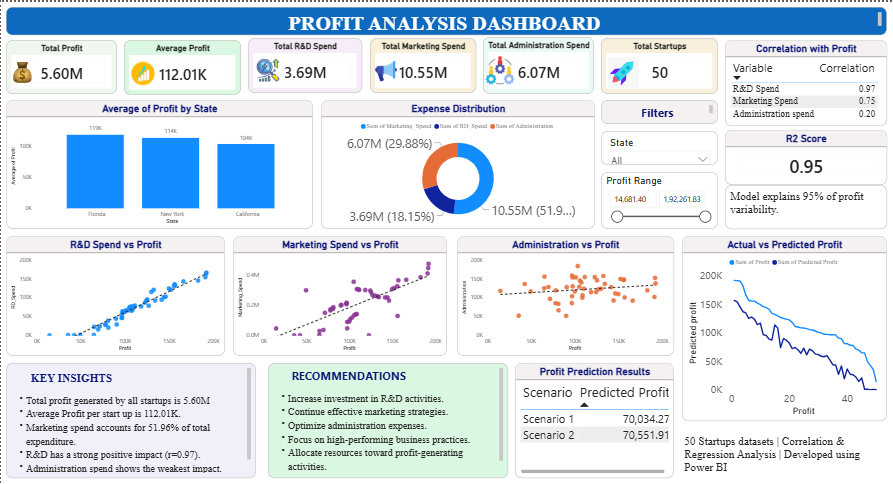

Layout of this report page (visuals, bound fields, positions):
{"tool":"powerbi","page":{"name":"Dashboard","canvas":[1900,1027],"ordinal":0},"visuals":[{"type":"donutChart","title":"Expense Distribution","fields":{"Y":["Sum(project_profit_analysis.Marketing_Spend)","Sum(project_profit_analysis.RD_Spend)","Sum(project_profit_analysis.Administration)"]},"box":[680.9,208.5,583,274.5],"z":0},{"type":"clusteredColumnChart","fields":{"Category":["project_profit_analysis.State"],"Y":["Avg(project_profit_analysis.Profit)"]},"box":[10.6,208.5,653.2,274.5],"z":1000},{"type":"scatterChart","title":" R&D Spend vs Profit","fields":{"Y":["project_profit_analysis.RD_Spend"],"X":["project_profit_analysis.Profit"]},"box":[10.6,497.9,466,255.3],"z":2000},{"type":"scatterChart","title":"Marketing Spend vs Profit","fields":{"X":["project_profit_analysis.Profit"],"Y":["project_profit_analysis.Marketing_Spend"]},"box":[493.6,497.9,455.3,255.3],"z":3000},{"type":"scatterChart","title":"Administration vs Profit","fields":{"X":["project_profit_analysis.Profit"],"Y":["project_profit_analysis.Administration"]},"box":[970.2,497.9,461.7,255.3],"z":4000},{"type":"textbox","box":[10.6,10.6,1874.5,59.6],"z":5000},{"type":"cardVisual","title":"Total Profit","fields":{"Data":["Sum(project_profit_analysis.Profit)"]},"box":[10.6,80.9,236.2,114.9],"z":6000},{"type":"cardVisual","title":"Average Profit","fields":{"Data":["Avg(project_profit_analysis.Profit)"]},"box":[261.7,80.9,248.9,117],"z":7000},{"type":"cardVisual","title":"Total Startups","fields":{"Data":["CountNonNull(project_profit_analysis.Startup_num)"]},"box":[1276.6,76.6,248.9,119.1],"z":8000},{"type":"cardVisual","title":"Total Marketing Spend","fields":{"Data":["Sum(project_profit_analysis.Marketing_Spend)"]},"box":[785.1,76.6,225.5,117],"z":9000},{"type":"cardVisual","title":"Total Administration Spend","fields":{"Data":["Sum(project_profit_analysis.Administration)"]},"box":[1025.5,74.5,236.2,121.3],"z":10000},{"type":"cardVisual","title":"Total R&D Spend","fields":{"Data":["Sum(project_profit_analysis.RD_Spend)"]},"box":[525.5,76.6,242.6,117],"z":11000},{"type":"textbox","box":[10.6,768.1,531.9,244.7],"z":12000},{"type":"textbox","box":[1276.6,208.5,248.9,51.1],"z":13000},{"type":"slicer","fields":{"Values":["project_profit_analysis.State"]},"box":[1276.6,274.5,248.9,72.3],"z":14000},{"type":"slicer","title":"   Profit Range","fields":{"Values":["project_profit_analysis.Profit"]},"box":[1276.6,361.7,248.9,121.3],"z":15000},{"type":"textbox","box":[568.1,768.1,510.6,244.7],"z":16000},{"type":"image","box":[19.1,110.6,53.2,76.6],"z":17000},{"type":"image","box":[276.6,110.6,51.1,83],"z":18000},{"type":"image","box":[542.6,108.5,51.1,72.3],"z":19000},{"type":"image","box":[791.5,102.1,57.4,89.4],"z":20000},{"type":"image","box":[1029.8,100,63.8,89.4],"z":21000},{"type":"image","box":[1291.5,110.6,66,78.7],"z":22000},{"type":"tableEx","title":"Correlation with Profit","fields":{"Values":["Table (2).Variable","Sum(Table (2).Correlation)"]},"box":[1540.4,80.9,344.7,183],"z":23000},{"type":"cardVisual","title":"R2 Score","fields":{"Data":["project_profit_analysis.R2 Score"]},"box":[1540.4,272.3,344.7,117],"z":24000},{"type":"textbox","box":[1540.4,389.4,344.7,93.6],"z":25000},{"type":"lineChart","title":"Actual vs Predicted Profit","fields":{"Category":["project_profit_analysis.Startup_num"],"Y":["Sum(project_profit_analysis.Profit)","Sum(project_profit_analysis.Predicted Profit)"]},"box":[1448.9,497.9,436.2,393.6],"z":26000},{"type":"textbox","box":[1448.9,917,436.2,95.7],"z":27000},{"type":"tableEx","title":"Profit Prediction Results","fields":{"Values":["Prediction.Scenario","Sum(Prediction.Predicted Profit)"]},"box":[1093.6,768.1,338.3,244.7],"z":28000}]}

Visuals, with their boxes in screenshot pixels (x1, y1, x2, y2), scaled from the page's 1900x1027 canvas onto the 893x484 screenshot:
"Expense Distribution" donutChart: crop(320, 98, 594, 228)
clusteredColumnChart - project_profit_analysis.State x Avg(project_profit_analysis.Profit): crop(5, 98, 312, 228)
" R&D Spend vs Profit" scatterChart: crop(5, 235, 224, 355)
"Marketing Spend vs Profit" scatterChart: crop(232, 235, 446, 355)
"Administration vs Profit" scatterChart: crop(456, 235, 673, 355)
textbox: crop(5, 5, 886, 33)
"Total Profit" cardVisual: crop(5, 38, 116, 92)
"Average Profit" cardVisual: crop(123, 38, 240, 93)
"Total Startups" cardVisual: crop(600, 36, 717, 92)
"Total Marketing Spend" cardVisual: crop(369, 36, 475, 91)
"Total Administration Spend" cardVisual: crop(482, 35, 593, 92)
"Total R&D Spend" cardVisual: crop(247, 36, 361, 91)
textbox: crop(5, 362, 255, 477)
textbox: crop(600, 98, 717, 122)
slicer - project_profit_analysis.State: crop(600, 129, 717, 163)
"   Profit Range" slicer: crop(600, 170, 717, 228)
textbox: crop(267, 362, 507, 477)
image: crop(9, 52, 34, 88)
image: crop(130, 52, 154, 91)
image: crop(255, 51, 279, 85)
image: crop(372, 48, 399, 90)
image: crop(484, 47, 514, 89)
image: crop(607, 52, 638, 89)
"Correlation with Profit" tableEx: crop(724, 38, 886, 124)
"R2 Score" cardVisual: crop(724, 128, 886, 183)
textbox: crop(724, 184, 886, 228)
"Actual vs Predicted Profit" lineChart: crop(681, 235, 886, 420)
textbox: crop(681, 432, 886, 477)
"Profit Prediction Results" tableEx: crop(514, 362, 673, 477)
